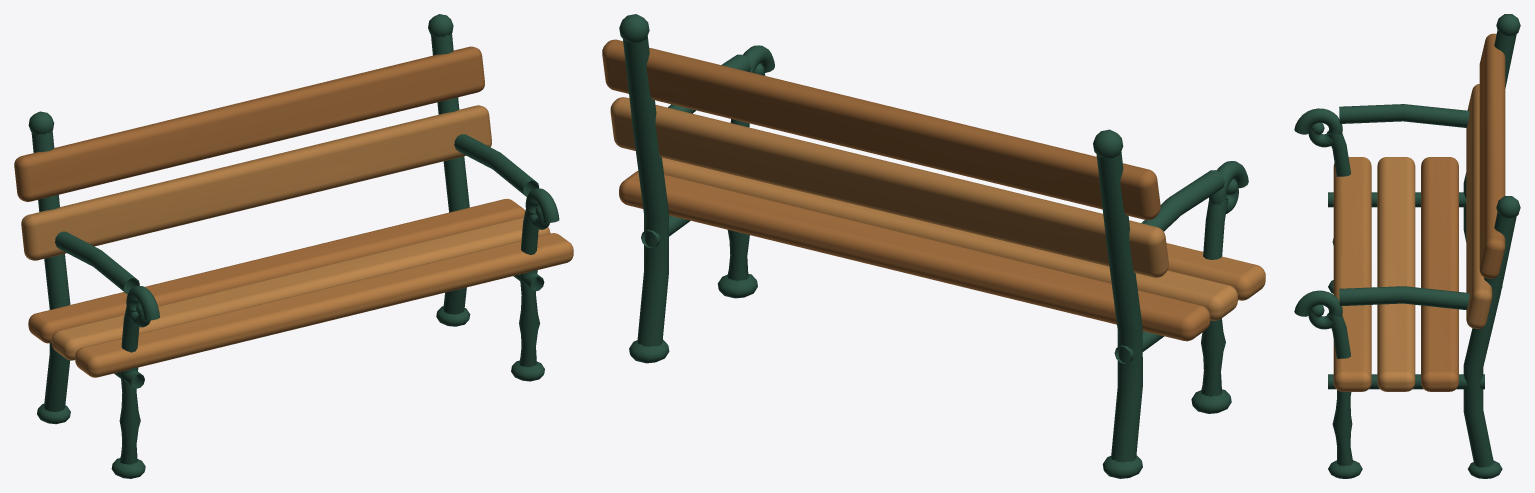
File: style_bench.glb
3 renders of one model, left to right at view 1: azimuth 30°, elevation 25°; view 2: azimuth 150°, elevation 25°; view 3: azimuth 270°, elevation 25°, orthographic. The views are drawn at different scales.
Parts seen in each view (by area): view 1: style_bench_main; view 2: style_bench_main; view 3: style_bench_main.
Boxes of the visible parts, x1,y1,x2,y2 form: style_bench_main: (14,14,573,478); style_bench_main: (602,14,1265,478); style_bench_main: (1294,14,1520,478).
Bounding box in the file's own units: 1.8 × 1.06 × 0.7774.
